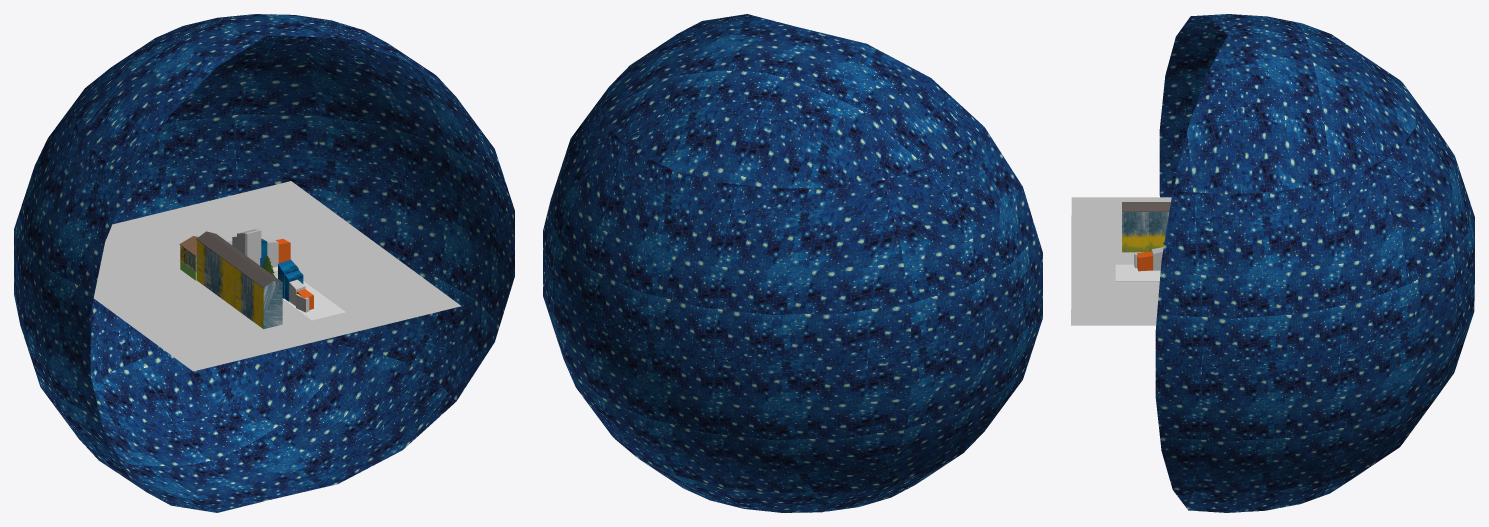
Rendered from Cafe Terrace_001.fbx.
3 views of the same model, side by side, from view 1: azimuth 30°, elevation 25°; view 2: azimuth 150°, elevation 25°; view 3: azimuth 270°, elevation 25° (orthographic).
Visible parts, largest first — view 1: sky, Cube, Cube.395, Cube.001, Cube.089, Box008, Box004, Cube.396; view 2: sky; view 3: sky, Cube, Cube.395, Box008, Cube.396.
Boxes of the visible parts, left/top/right/bottom form: sky: left=14, top=14, right=514, bottom=512; Cube: left=93, top=181, right=461, bottom=371; Cube.395: left=235, top=268, right=282, bottom=328; Cube.001: left=197, top=240, right=235, bottom=308; Cube.089: left=196, top=231, right=254, bottom=267; Box008: left=276, top=277, right=345, bottom=320; Box004: left=237, top=229, right=261, bottom=265; Cube.396: left=235, top=260, right=282, bottom=287; sky: left=543, top=14, right=1042, bottom=512; sky: left=1155, top=14, right=1474, bottom=512; Cube: left=1071, top=197, right=1171, bottom=325; Cube.395: left=1122, top=212, right=1169, bottom=252; Box008: left=1115, top=264, right=1160, bottom=281; Cube.396: left=1122, top=202, right=1170, bottom=211.
Bounding box in the file's own units: 12142 × 12267 × 9836.
